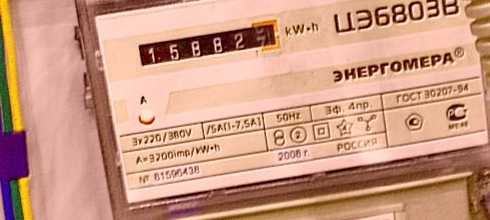1: (145, 45, 157, 64)
2: (232, 31, 245, 50)
5: (167, 43, 180, 61)
7: (255, 35, 267, 47)
8: (210, 35, 224, 54), (188, 39, 202, 57)
screen: (129, 15, 288, 76)
